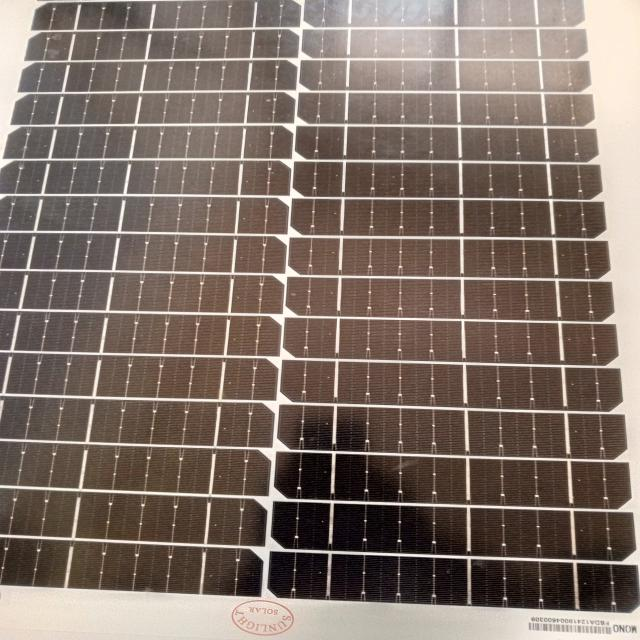Clean: (32, 5, 623, 606)
